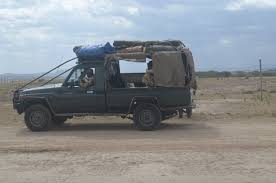Vehicle: (11, 35, 203, 132)
